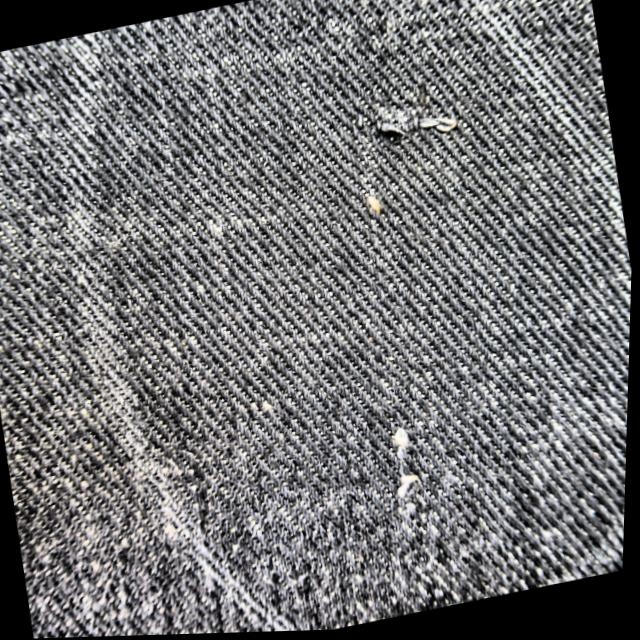Hole: (347, 391, 462, 536), (369, 96, 466, 155), (362, 191, 386, 218)
